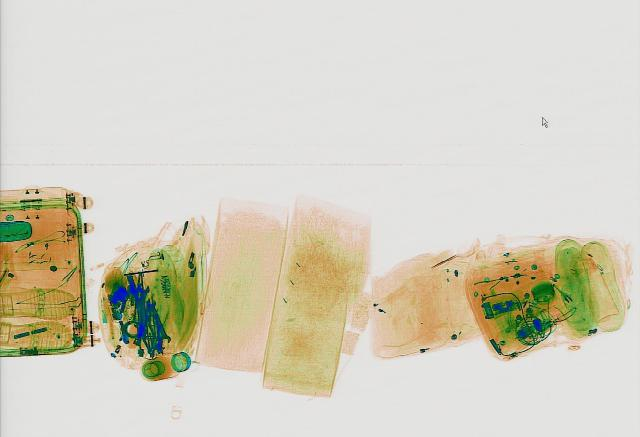Wrench: (139, 298, 173, 344), (134, 282, 148, 333)
